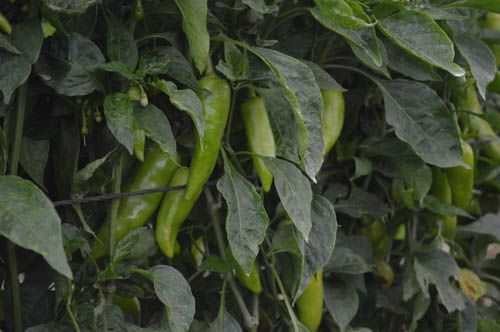ChiliPepper: (86, 150, 175, 261), (184, 77, 229, 205), (243, 99, 283, 191), (154, 169, 191, 261), (311, 87, 349, 159), (457, 84, 495, 156), (296, 264, 325, 330), (431, 176, 460, 232), (446, 148, 472, 208)
